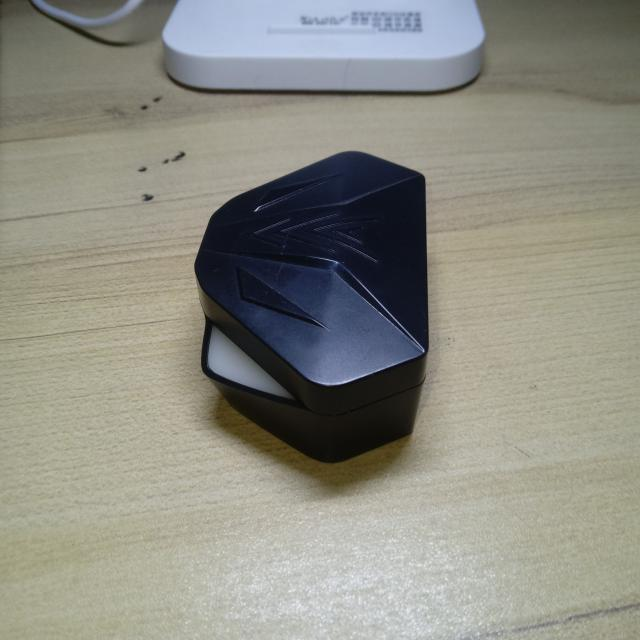earpods: (194, 138, 432, 468)
